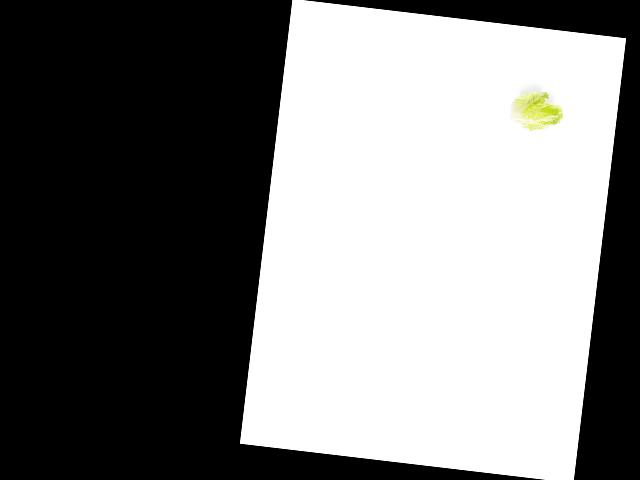lettuce: (502, 86, 568, 136)
